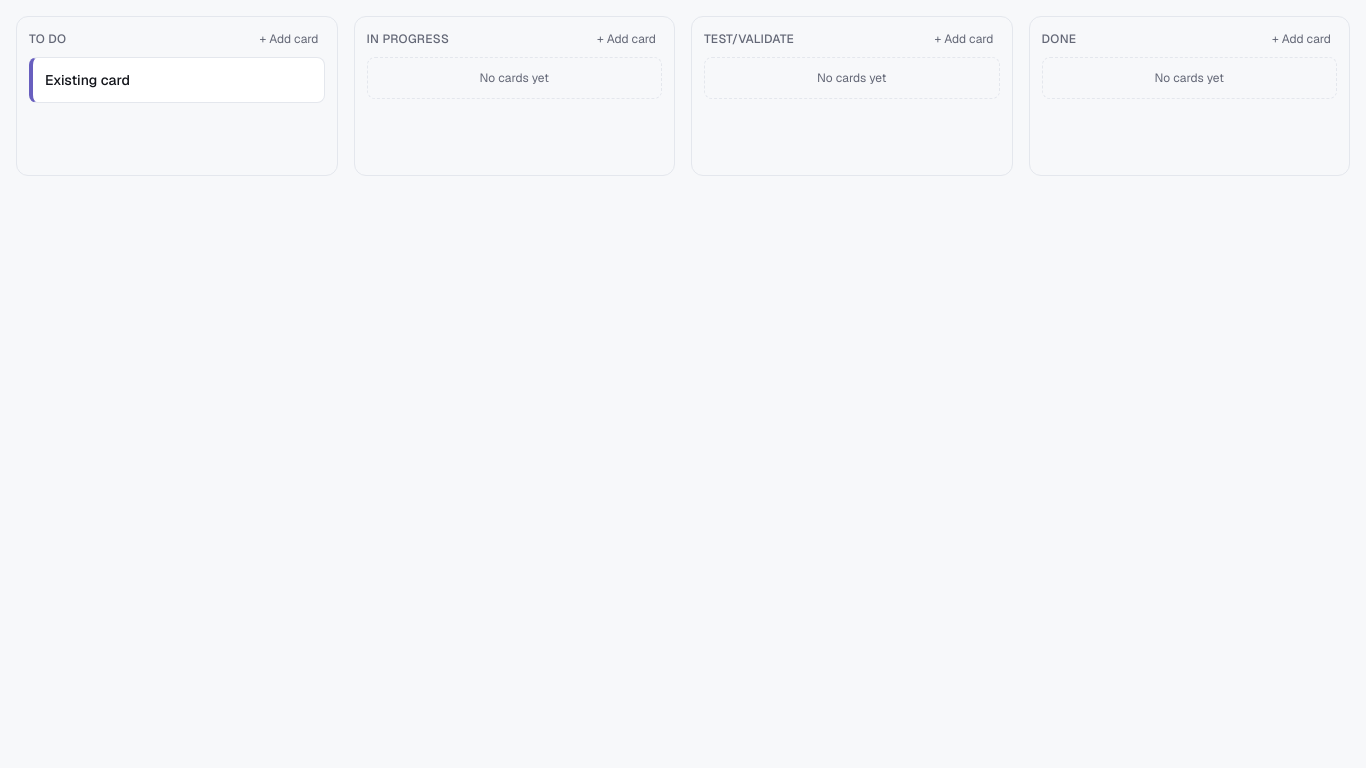
Test: Board › edits an existing card via clicking it and shows the change without a reload
Click the button "Existing card" at (87, 80), box [29, 57, 324, 103]
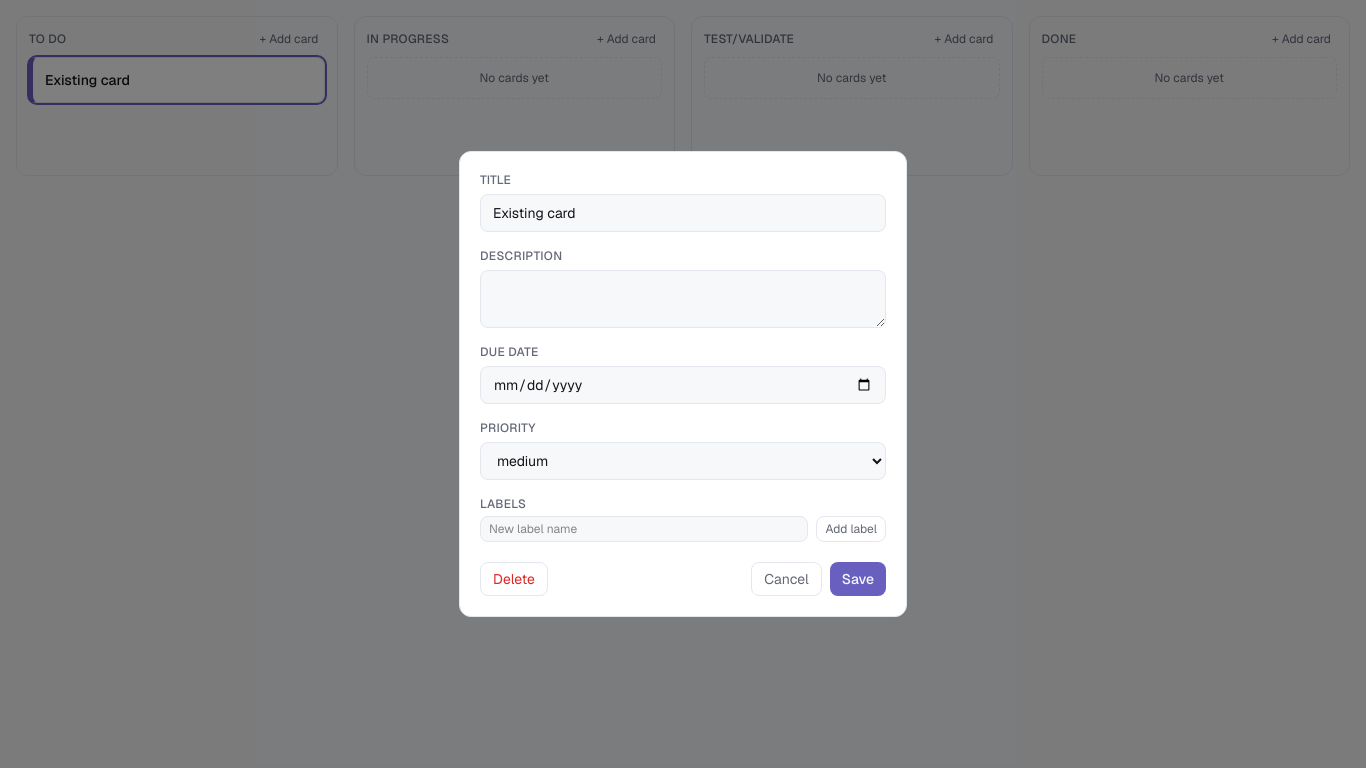
Replace the text in the field labelled "Title" with "Renamed" at (683, 213), box [480, 194, 886, 232]
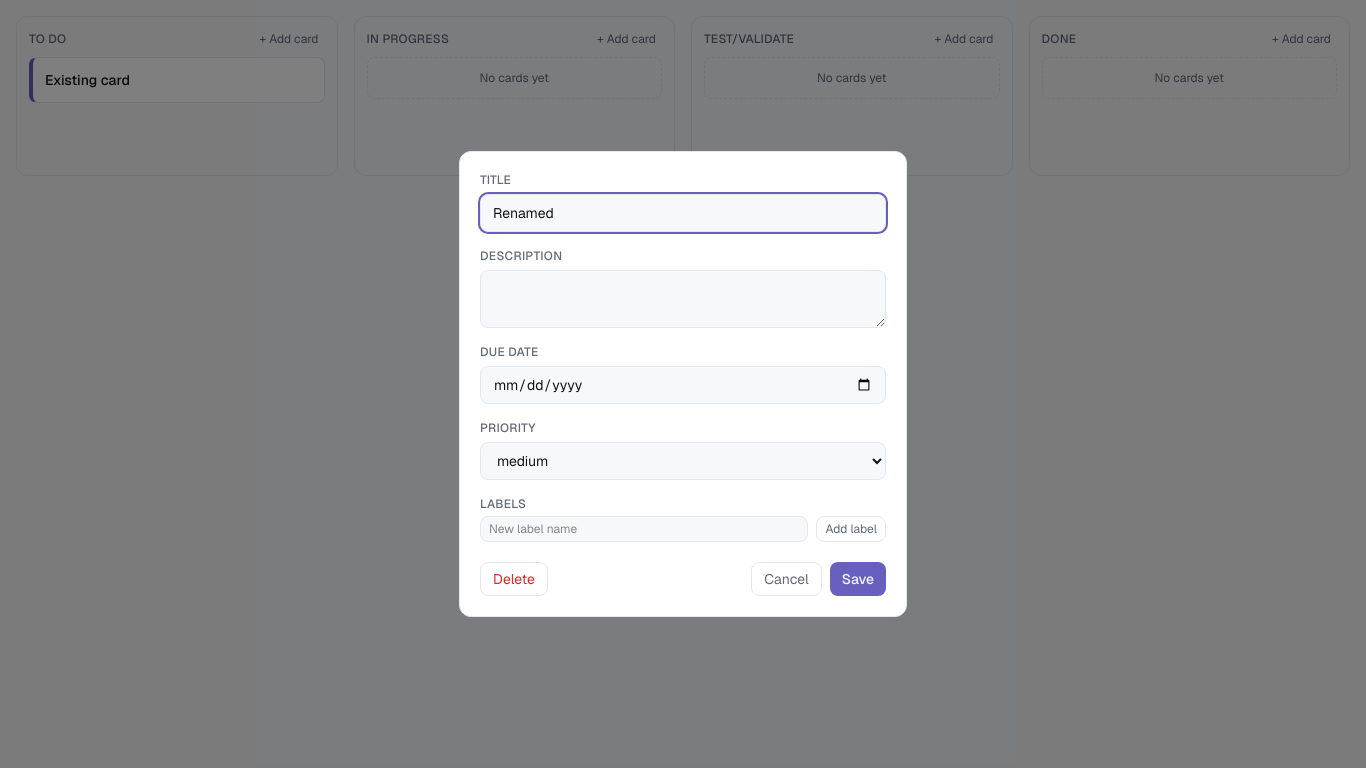
Click the button "Save" at (858, 579), box [830, 562, 886, 596]
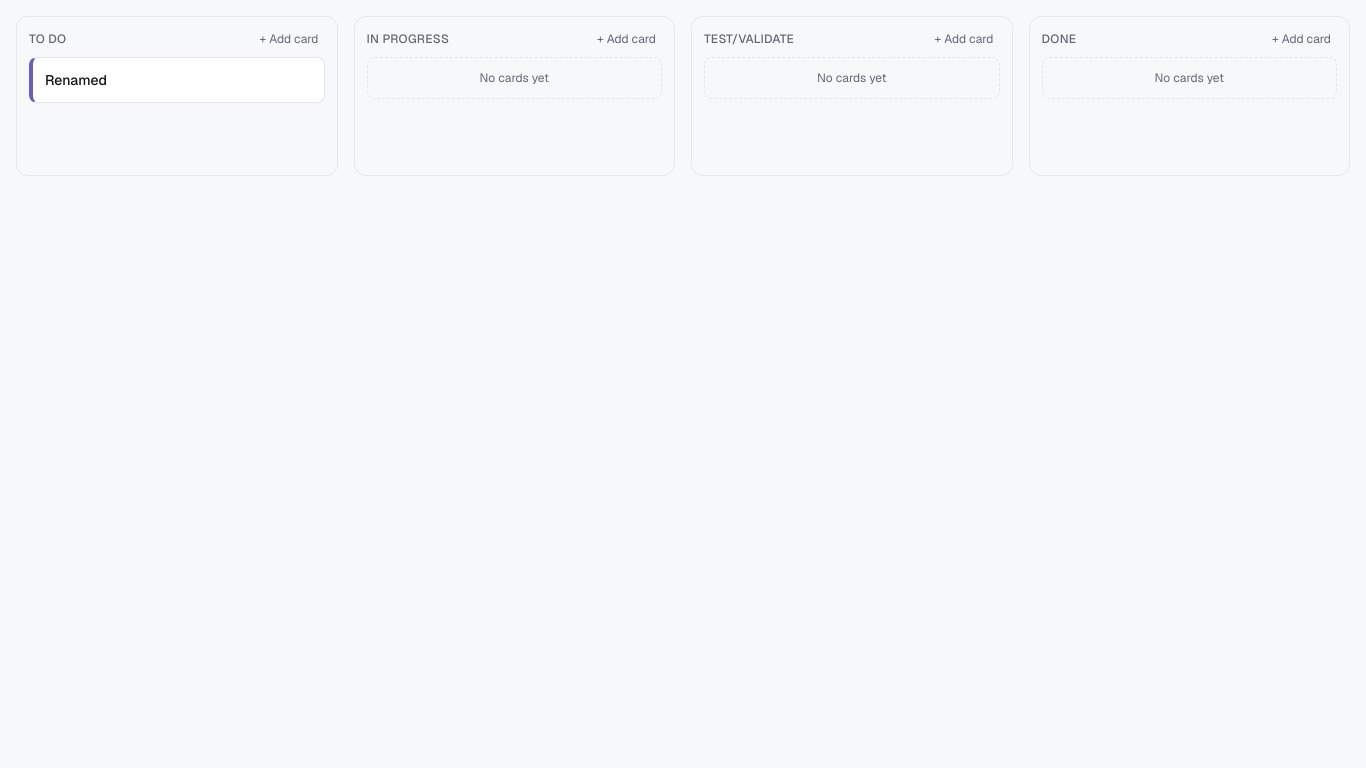
Expected: the text "Renamed" is shown, [45, 71, 107, 89]
Expected: the button "Existing card" is gone
